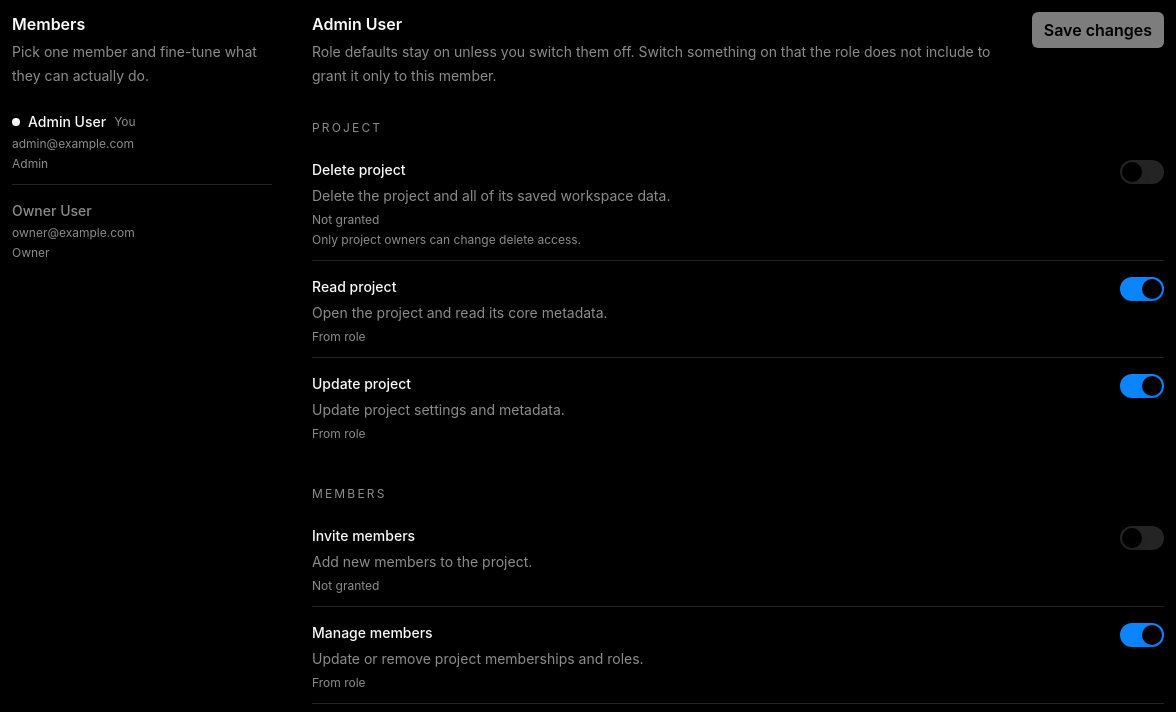
Test case: ProjectPermissionsSettings › prevents admins from changing owner members or delete permission overrides
Expected: the heading "Admin User" is shown, [312, 14, 402, 34]
Expected: the switch named "Delete project permission" is disabled, [1120, 160, 1164, 184]
Click the button "Owner User owner@example.com Owner": (52, 210) [12, 189, 272, 273]
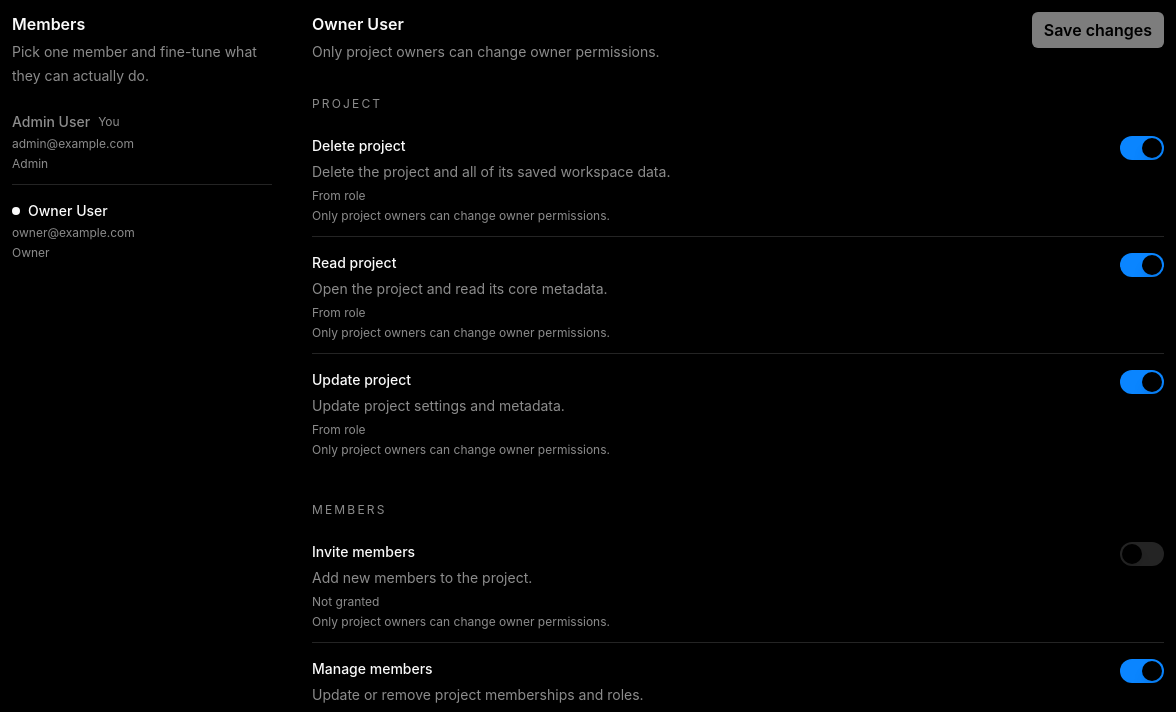
Expected: the switch named "Delete project permission" is shown, [1120, 136, 1164, 160]
Result: the heading "Owner User" is shown at [312, 14, 404, 34]
Result: the 1st text "Only project owners can change owner permissions." is shown at [312, 40, 660, 64]
